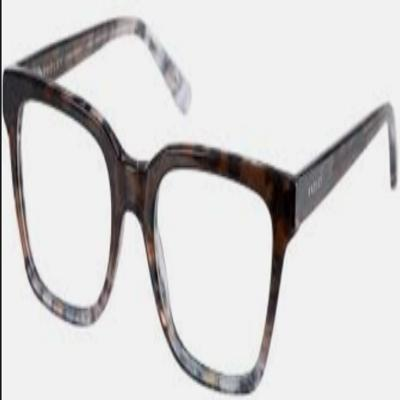glasses: (1, 15, 397, 396)
